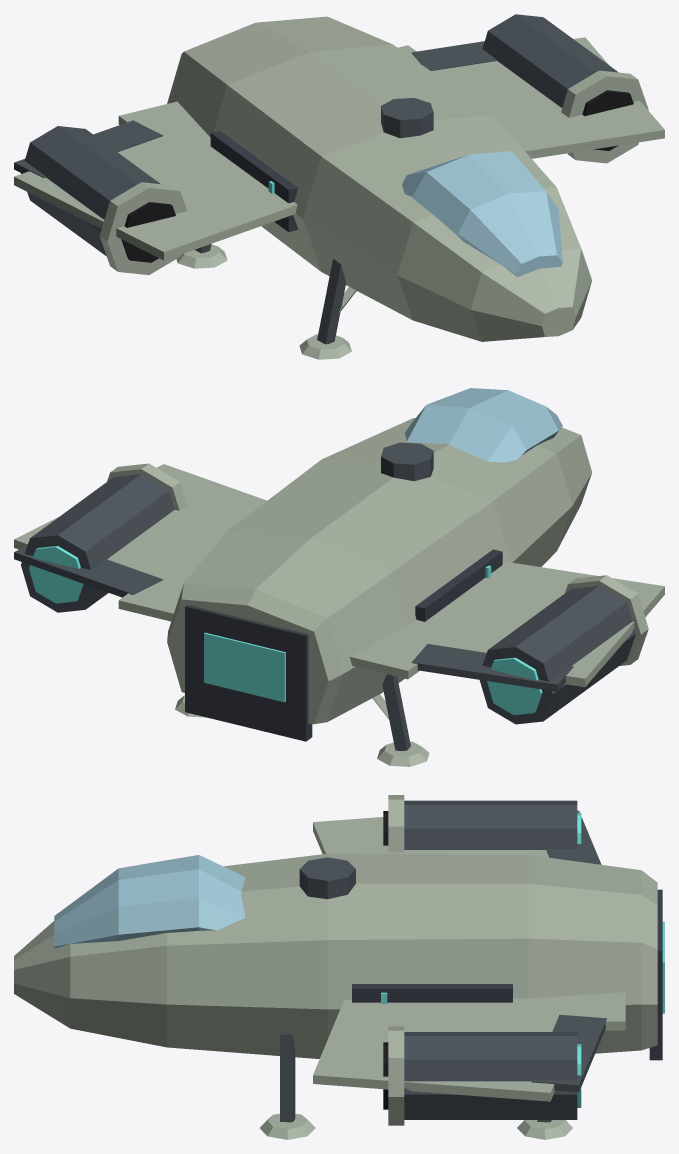
File: SH_DropShip_01.glb
The picture shows the model from 3 angles, top to bottom: view 1: azimuth 30°, elevation 25°; view 2: azimuth 150°, elevation 25°; view 3: azimuth 270°, elevation 25°; orthographic projection. The views are drawn at different scales.
Parts seen in each view (by area): view 1: SH_DropShip_01; view 2: SH_DropShip_01; view 3: SH_DropShip_01.
Part boxes in pixels (x1,y1,x2,y2): SH_DropShip_01: (14, 14, 664, 359); SH_DropShip_01: (14, 388, 664, 766); SH_DropShip_01: (14, 795, 664, 1139).
Bounding box in the file's own units: 8.48 × 2.85 × 8.09.
1 material, 1 textured.
